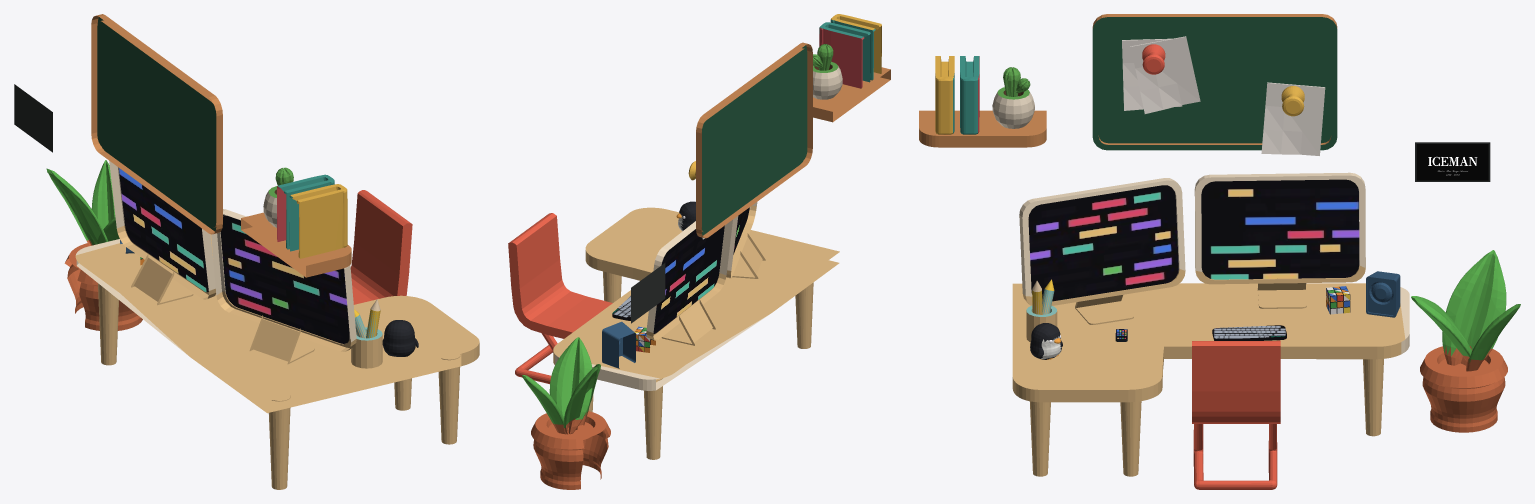
File: room.glb
3 renders of one model, left to right at view 1: azimuth 30°, elevation 25°; view 2: azimuth 150°, elevation 25°; view 3: azimuth 270°, elevation 25°, orthographic. The views are drawn at different scales.
Parts seen in each view (by area): view 1: frame-border, blackboard, desktop-plane-0; view 2: frame-border, blackboard, desktop-plane-0; view 3: blackboard, frame-border, desktop-plane-0, frame-photo, room.
Part boxes in pixels (x1=…): frame-border: x1=14, y1=84, x2=479, y2=489; blackboard: x1=46, y1=14, x2=351, y2=330; desktop-plane-0: x1=118, y1=168, x2=349, y2=344; frame-border: x1=508, y1=201, x2=839, y2=459; blackboard: x1=522, y1=14, x2=890, y2=489; desktop-plane-0: x1=653, y1=207, x2=749, y2=333; blackboard: x1=919, y1=14, x2=1520, y2=432; frame-border: x1=1012, y1=142, x2=1490, y2=489; desktop-plane-0: x1=1028, y1=179, x2=1359, y2=301; frame-photo: x1=1416, y1=144, x2=1488, y2=180; room: x1=1212, y1=325, x2=1286, y2=340.
Size of the model in its own units: 3.79 by 5.48 by 8.18.
Materials: 5 (5 with a texture image).
